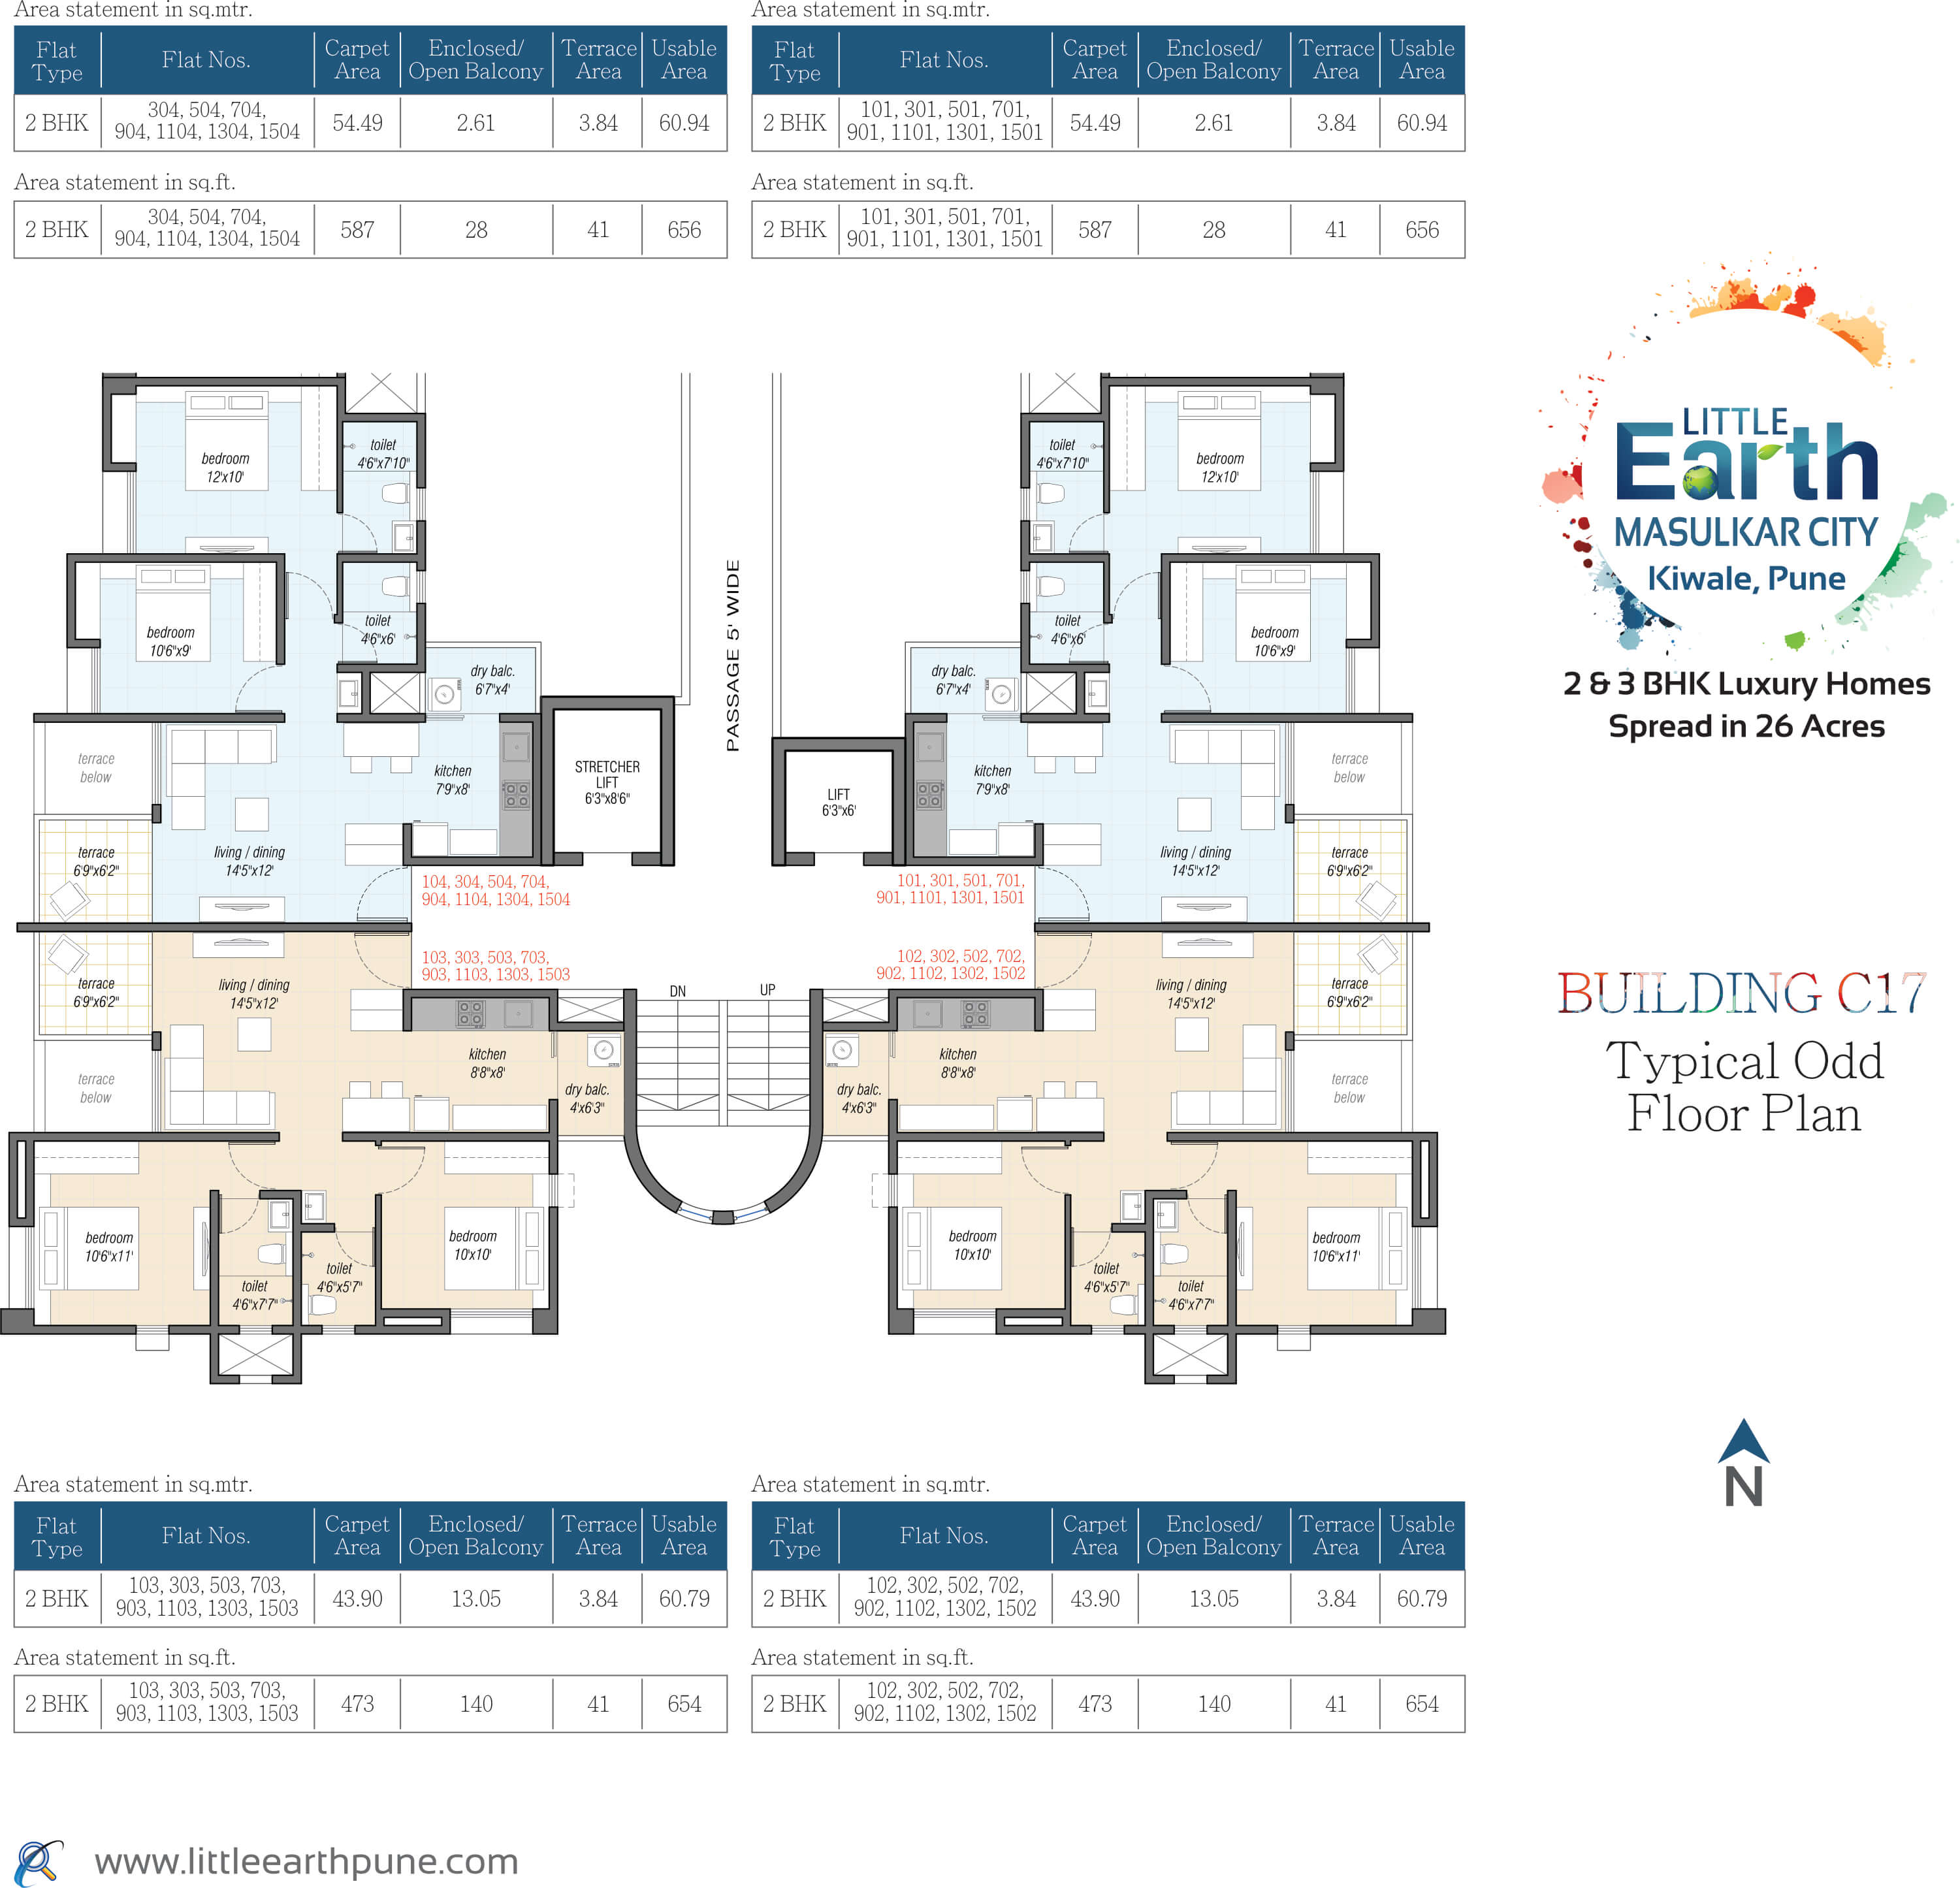window: (448, 1305, 536, 1339), (912, 1305, 999, 1339), (1409, 1223, 1442, 1311), (7, 1223, 37, 1311), (1279, 719, 1297, 807), (1279, 1048, 1297, 1134), (149, 1048, 165, 1136), (149, 719, 165, 807), (88, 644, 103, 716), (1017, 565, 1034, 611), (1017, 481, 1034, 525), (1169, 1321, 1211, 1337), (131, 1323, 177, 1337), (1087, 1323, 1129, 1337), (1272, 1323, 1314, 1337), (319, 1323, 359, 1337), (236, 1323, 275, 1337), (415, 569, 427, 607), (415, 486, 427, 525)
